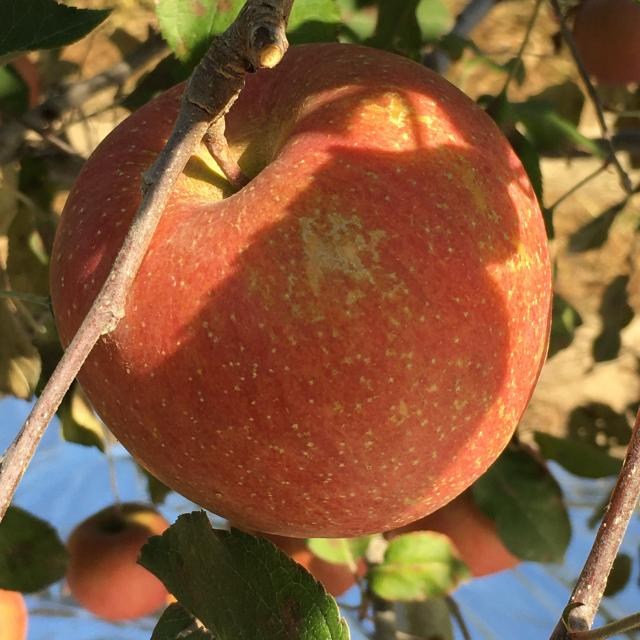fresh: (39, 30, 565, 551)
